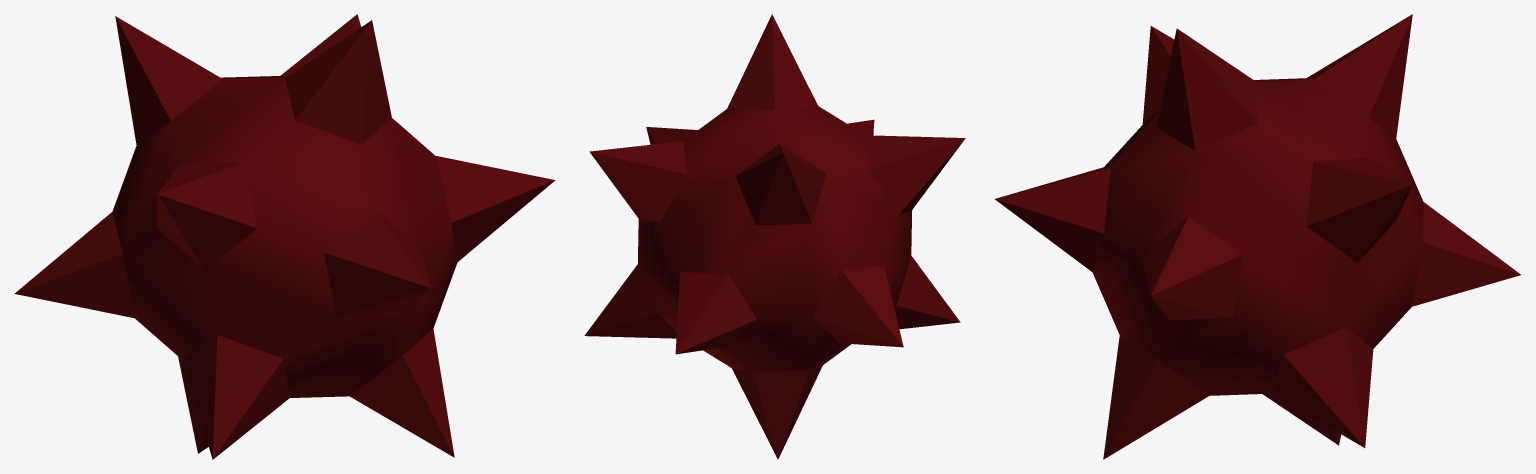
File: Enemies.fbx
3 renders of one model, left to right at view 1: azimuth 30°, elevation 25°; view 2: azimuth 150°, elevation 25°; view 3: azimuth 270°, elevation 25°, orthographic. The views are drawn at different scales.
Parts seen in each view (by area): view 1: pSolid1; view 2: pSolid1; view 3: pSolid1.
Boxes of the visible parts, left/top/right/bottom form: pSolid1: left=14, top=14, right=555, bottom=459; pSolid1: left=584, top=14, right=965, bottom=459; pSolid1: left=995, top=14, right=1520, bottom=459.
Size of the model in its own units: 2.85 by 2.99 by 3.1.
